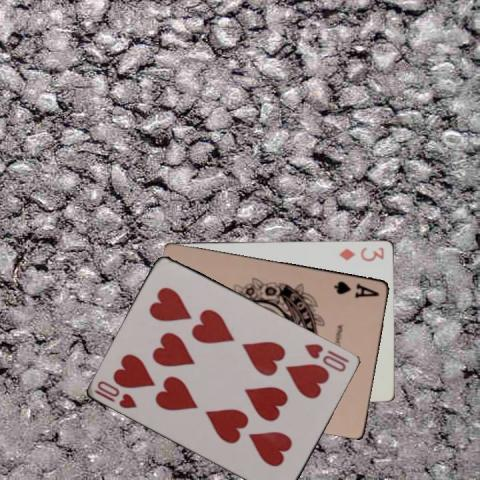10h: (302, 340, 351, 373), (91, 377, 139, 410)
3d: (336, 244, 385, 263)
As: (330, 278, 380, 299)
